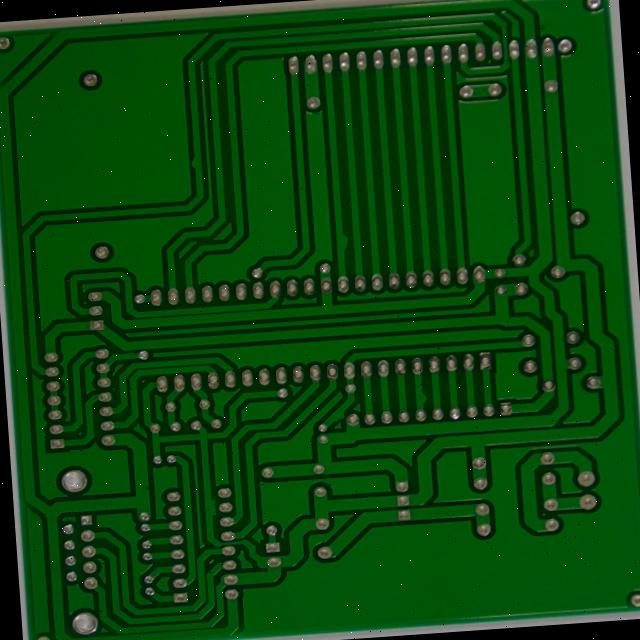spur: (305, 246, 325, 274), (299, 435, 320, 457), (164, 534, 179, 557), (143, 167, 162, 185), (394, 418, 412, 437)
